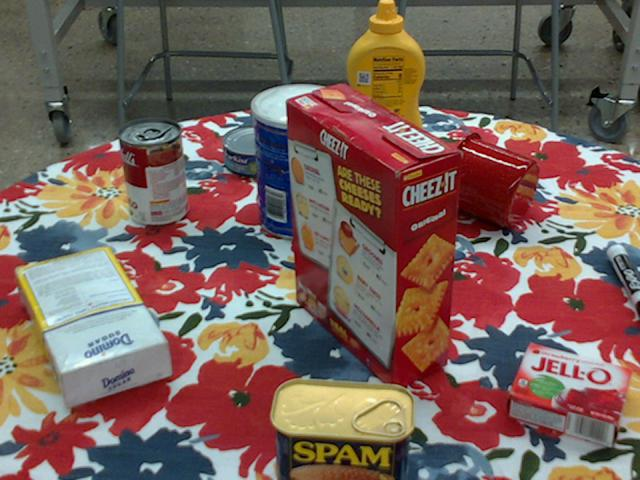cracker_box: (284, 86, 458, 392)
gelatin_box: (505, 342, 630, 444)
large_marker: (607, 242, 639, 315)
master_chef_can: (251, 83, 349, 240)
mug: (439, 132, 538, 227)
mustard_bottle: (346, 0, 424, 158)
potted_meat_can: (267, 380, 413, 479)
sugar_box: (17, 249, 170, 405)
tomato_soup_can: (118, 118, 187, 227)
tuna_fish_can: (224, 124, 293, 177)
